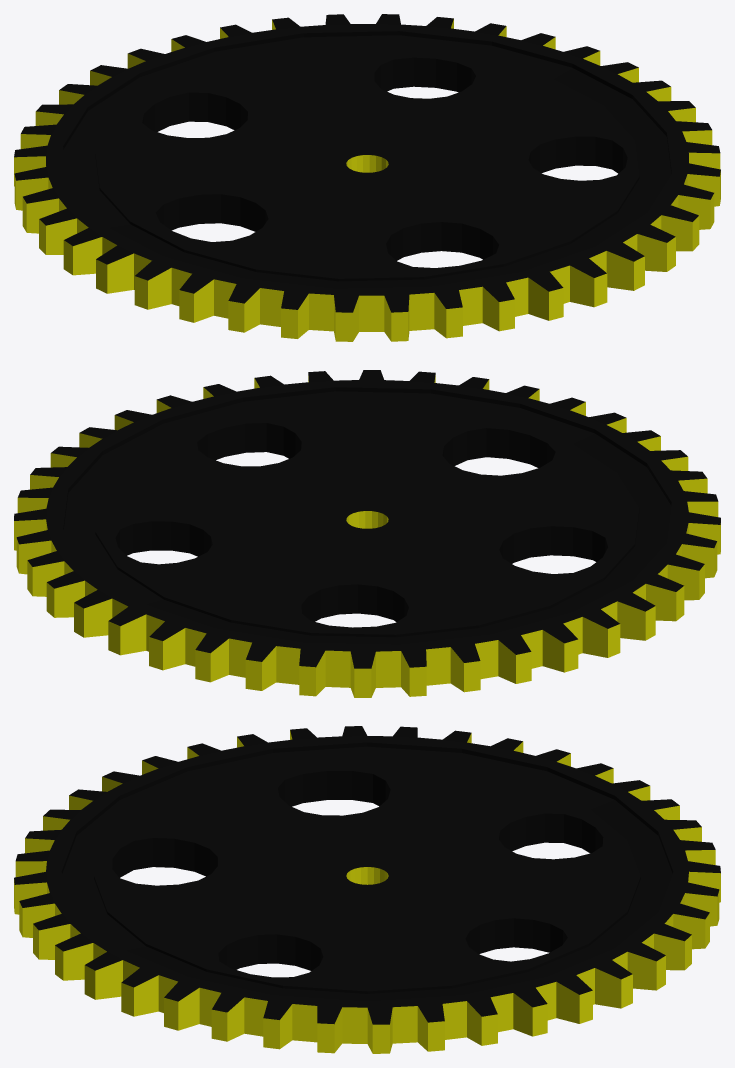
File: D4GearV3.fbx
3 views of the same model, one above another, from view 1: azimuth 30°, elevation 25°; view 2: azimuth 150°, elevation 25°; view 3: azimuth 270°, elevation 25° (orthographic).
Parts seen in each view (by area): view 1: D4GearV3; view 2: D4GearV3; view 3: D4GearV3.
Boxes of the visible parts, x1=… form: D4GearV3: x1=14, y1=14, x2=720, y2=341; D4GearV3: x1=14, y1=370, x2=720, y2=697; D4GearV3: x1=14, y1=726, x2=720, y2=1053.
Bounding box in the file's own units: 8.8 × 0.5 × 8.8.
